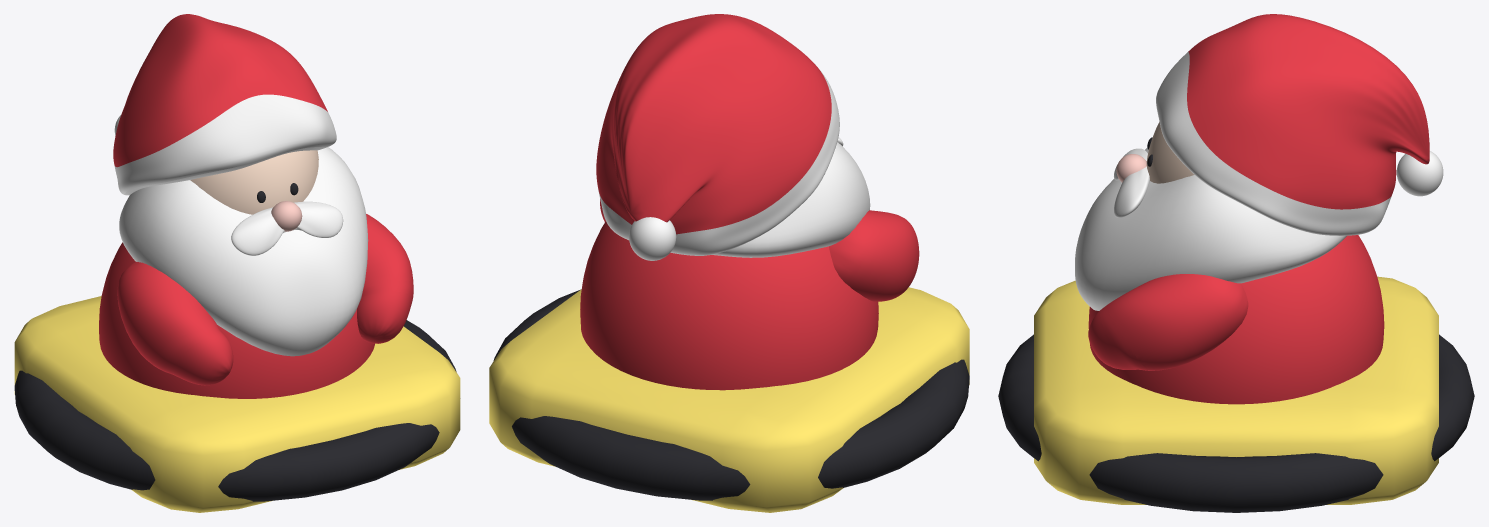
Rendered from bumper.glb.
3 views of the same model, side by side, from view 1: azimuth 30°, elevation 25°; view 2: azimuth 150°, elevation 25°; view 3: azimuth 270°, elevation 25° (orthographic). The views are drawn at different scales.
Visible parts, largest first — view 1: bumper_red, bumper_white, bumper_yellow, bumper_black, bumper_skin, bumper_nose; view 2: bumper_red, bumper_yellow, bumper_black, bumper_white; view 3: bumper_red, bumper_yellow, bumper_white, bumper_black, bumper_skin, bumper_nose.
Boxes of the visible parts, bbox=[...] form: bumper_red: bbox=[99, 14, 413, 398]; bumper_white: bbox=[114, 94, 368, 356]; bumper_yellow: bbox=[14, 296, 460, 512]; bumper_black: bbox=[14, 183, 456, 501]; bumper_skin: bbox=[190, 150, 318, 214]; bumper_nose: bbox=[271, 201, 302, 231]; bumper_red: bbox=[580, 14, 919, 390]; bumper_yellow: bbox=[489, 287, 969, 512]; bumper_black: bbox=[493, 289, 969, 500]; bumper_white: bbox=[598, 69, 870, 260]; bumper_red: bbox=[1088, 14, 1429, 404]; bumper_yellow: bbox=[1034, 276, 1438, 504]; bumper_white: bbox=[1075, 52, 1443, 310]; bumper_black: bbox=[998, 137, 1474, 512]; bumper_skin: bbox=[1146, 122, 1194, 183]; bumper_nose: bbox=[1116, 154, 1146, 182].
Bounding box in the file's own units: 3.06 × 2.96 × 3.06.
